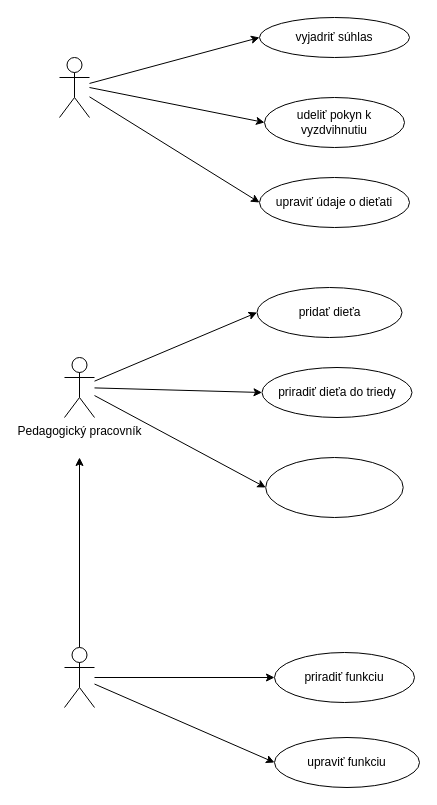
Image size: 437x805. Some labels were removed from this diagram. Each missing label, with the centre of its shape:
"Riaditeľ" belongs at pixel 79 677.
"vytvoriť aktivitu" belongs at pixel 334 487.
"Zákonný zástupca" belongs at pixel 74 87.
